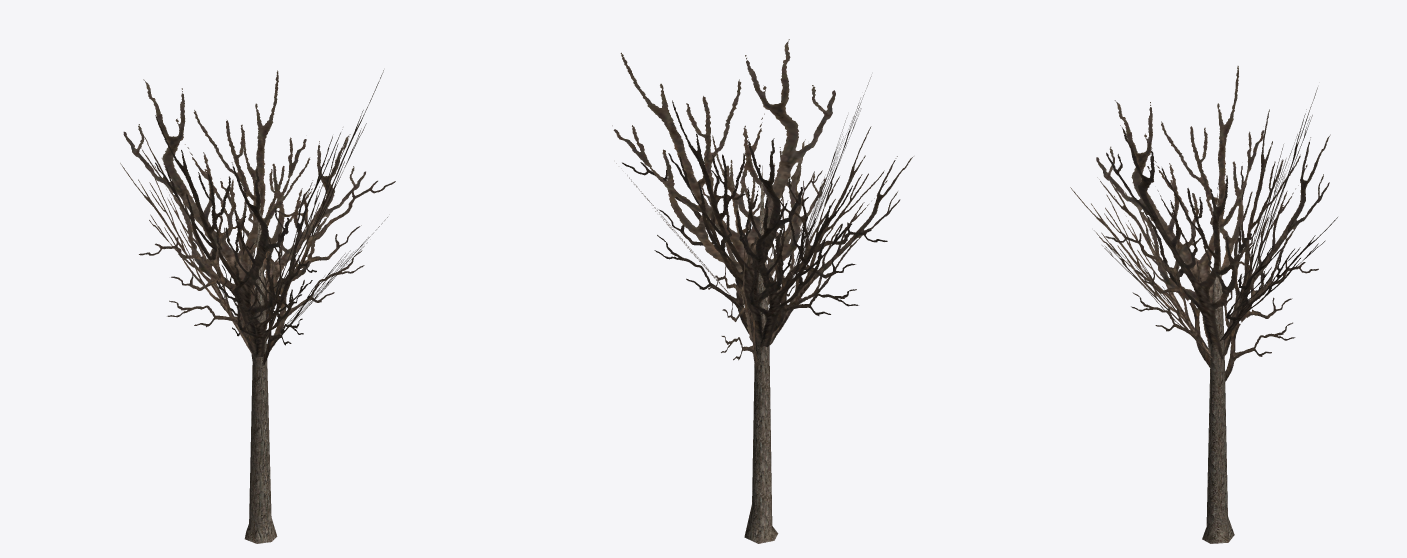
File: tree1a.fbx
3 views of the same model, side by side, from view 1: azimuth 30°, elevation 25°; view 2: azimuth 150°, elevation 25°; view 3: azimuth 270°, elevation 25° (orthographic). The views are drawn at different scales.
Parts seen in each view (by area): view 1: mesh_9, mesh_10, mesh_0, mesh_7, mesh_5, mesh_1, mesh_11, mesh_8, mesh_3, mesh_4, mesh_6; view 2: mesh_11, mesh_9, mesh_0, mesh_8, mesh_5, mesh_3, mesh_1, mesh_6, mesh_2, mesh_10; view 3: mesh_10, mesh_11, mesh_0, mesh_8, mesh_5, mesh_4, mesh_7, mesh_2, mesh_9, mesh_6.
Boxes of the visible parts, left/top/right/bottom form: mesh_9: left=123, top=70, right=306, bottom=306; mesh_10: left=155, top=115, right=289, bottom=353; mesh_0: left=244, top=183, right=277, bottom=543; mesh_7: left=220, top=134, right=365, bottom=328; mesh_5: left=216, top=256, right=312, bottom=357; mesh_1: left=267, top=180, right=395, bottom=351; mesh_11: left=265, top=70, right=383, bottom=340; mesh_8: left=120, top=133, right=253, bottom=355; mesh_3: left=139, top=215, right=254, bottom=345; mesh_4: left=263, top=232, right=316, bottom=365; mesh_6: left=270, top=217, right=387, bottom=349; mesh_11: left=612, top=39, right=835, bottom=341; mesh_9: left=668, top=100, right=802, bottom=347; mesh_0: left=744, top=165, right=778, bottom=543; mesh_8: left=739, top=185, right=852, bottom=347; mesh_5: left=769, top=126, right=913, bottom=345; mesh_3: left=772, top=197, right=887, bottom=332; mesh_1: left=622, top=162, right=756, bottom=334; mesh_6: left=702, top=135, right=825, bottom=304; mesh_2: left=708, top=237, right=759, bottom=372; mesh_10: left=786, top=76, right=871, bottom=293; mesh_10: left=1096, top=66, right=1264, bottom=352; mesh_11: left=1106, top=125, right=1251, bottom=360; mesh_0: left=1202, top=193, right=1234, bottom=543; mesh_8: left=1224, top=109, right=1330, bottom=355; mesh_5: left=1070, top=177, right=1210, bottom=354; mesh_4: left=1105, top=227, right=1210, bottom=367; mesh_7: left=1220, top=217, right=1337, bottom=341; mesh_2: left=1224, top=245, right=1318, bottom=381; mesh_9: left=1223, top=87, right=1317, bottom=355; mesh_6: left=1094, top=230, right=1215, bottom=361.
Bounding box in the file's own units: 1003 × 1046 × 840.
Materials: 2 (2 with a texture image).
